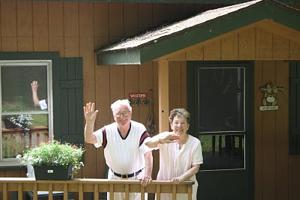person: (84, 101, 154, 200)
